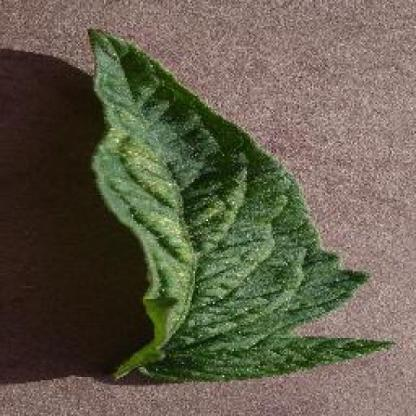Tomato_Spider_Mites: (78, 28, 393, 375)
